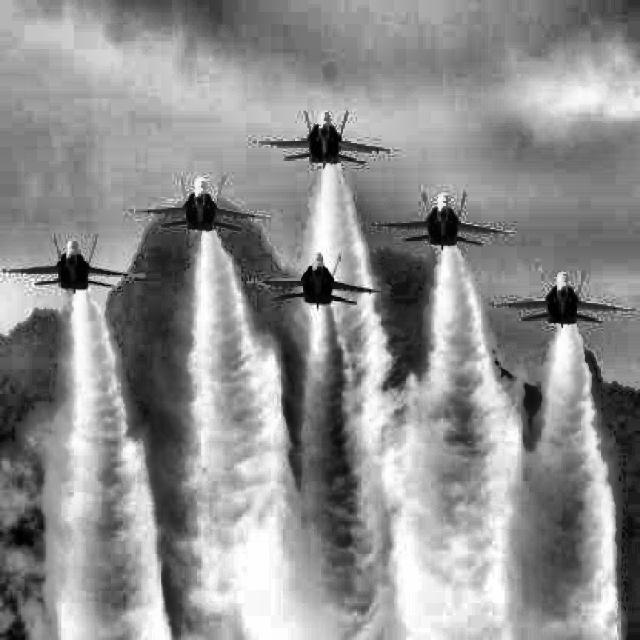F18: (372, 187, 514, 251), (491, 266, 634, 329), (253, 105, 396, 168), (2, 234, 146, 294), (128, 176, 272, 236), (248, 249, 389, 309)
